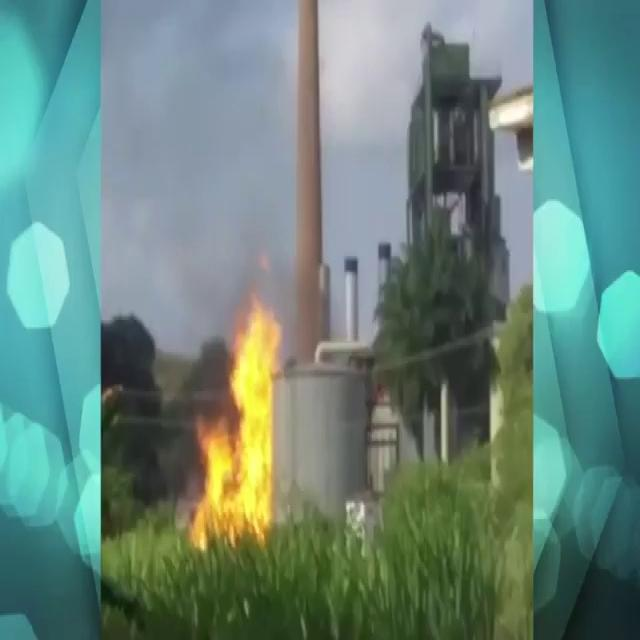Fire: (191, 308, 275, 542)
Smoke: (106, 8, 288, 356)
